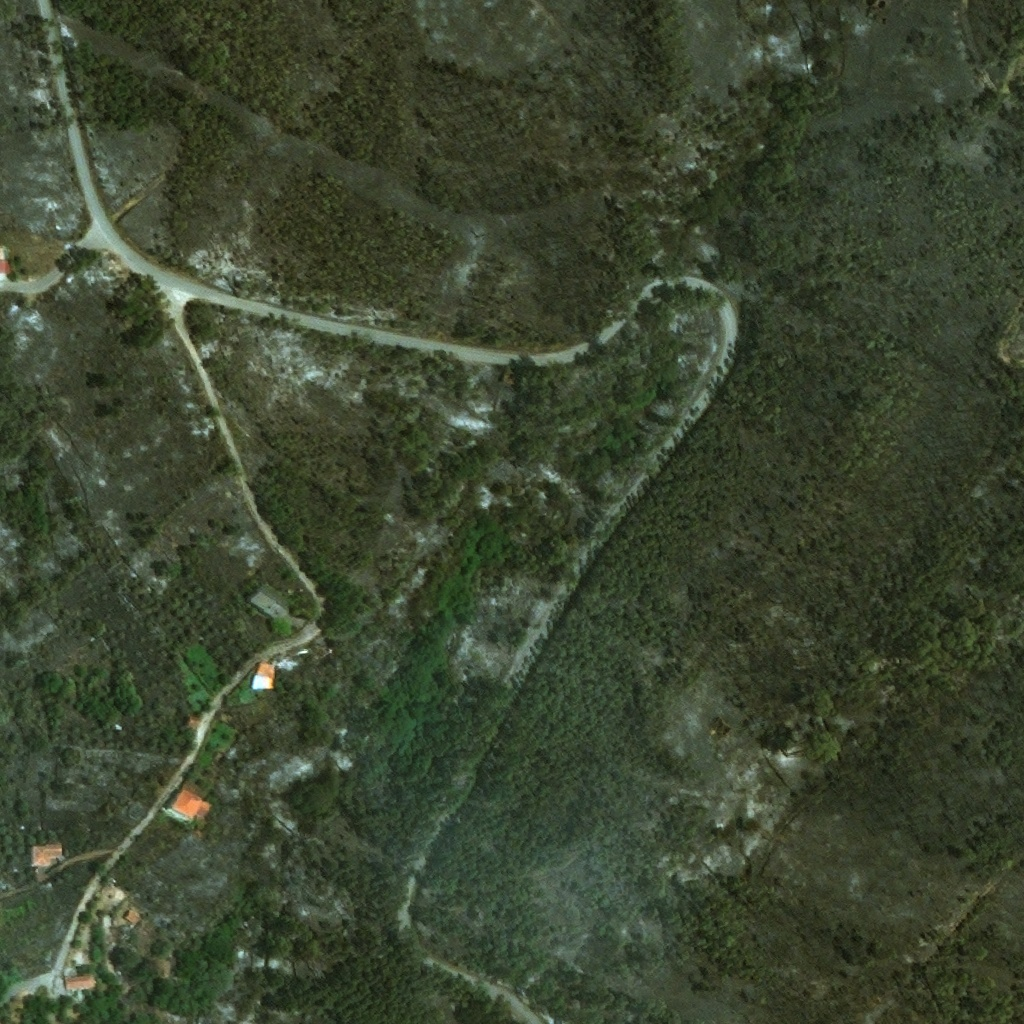0 no-damage: (165, 778, 213, 823), (247, 584, 290, 621), (28, 844, 63, 867), (252, 660, 276, 689), (65, 975, 93, 990), (123, 910, 141, 932), (188, 715, 201, 726)
4 un-classified: (0, 246, 9, 280)
